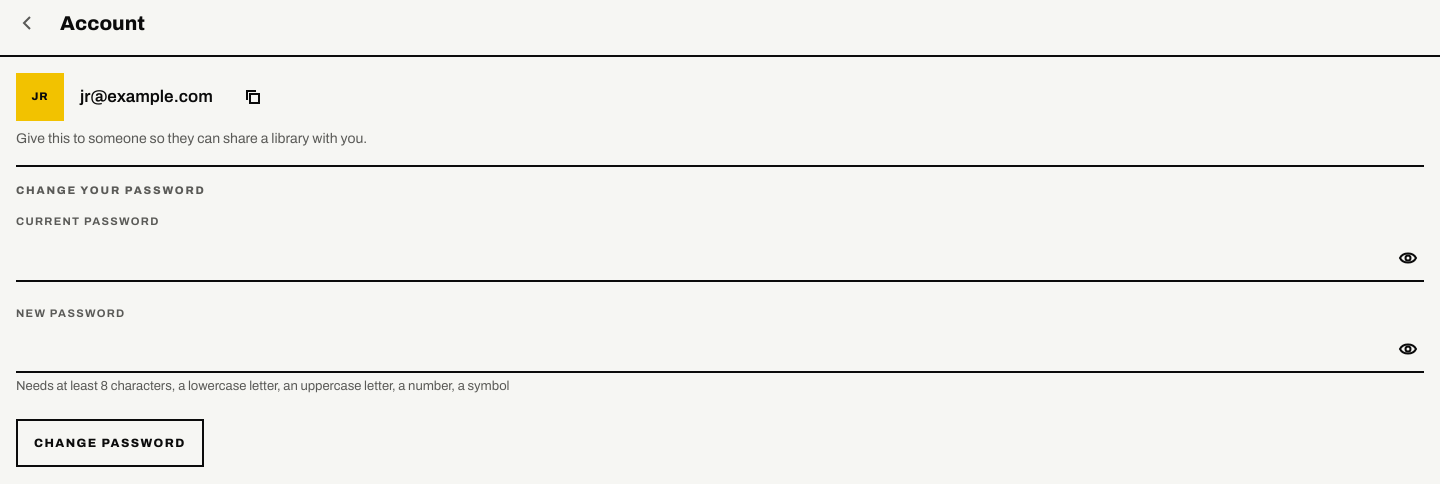
Account › holds the submit until both passwords are usable, and says what is missing
Expected: the button "Change password" is disabled, 16,419 -> 204,467
Type "Old-pass-1!" into the password field labelled "Current password" at (700, 258), box 16,234 -> 1384,282
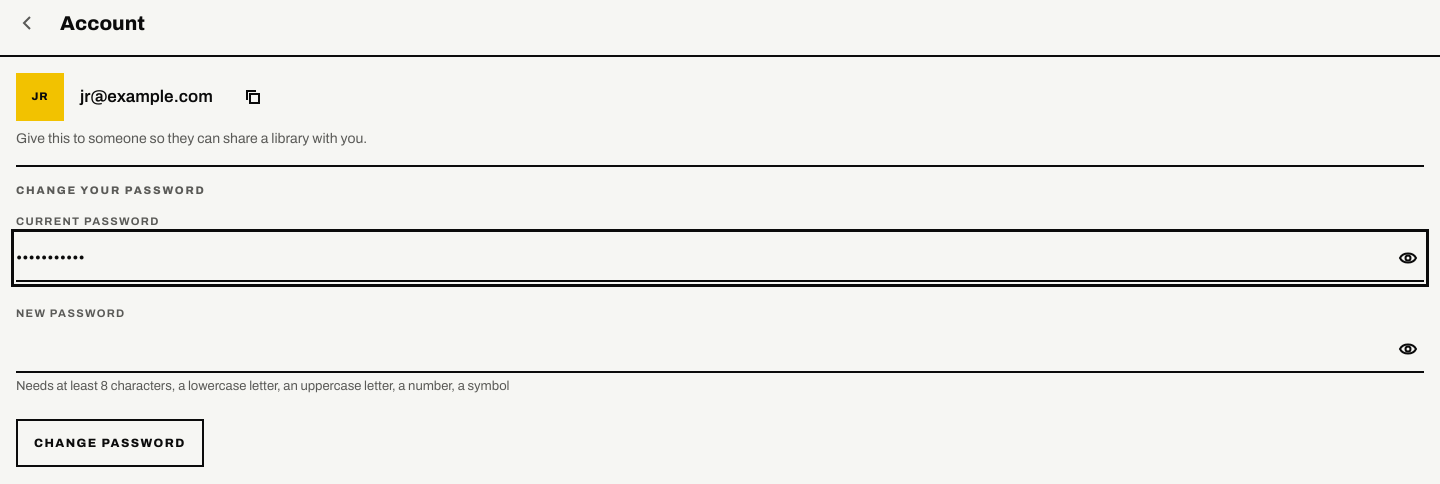
Type "New-pass-1!" into the password field labelled "New password" at (700, 349), box 16,325 -> 1384,373
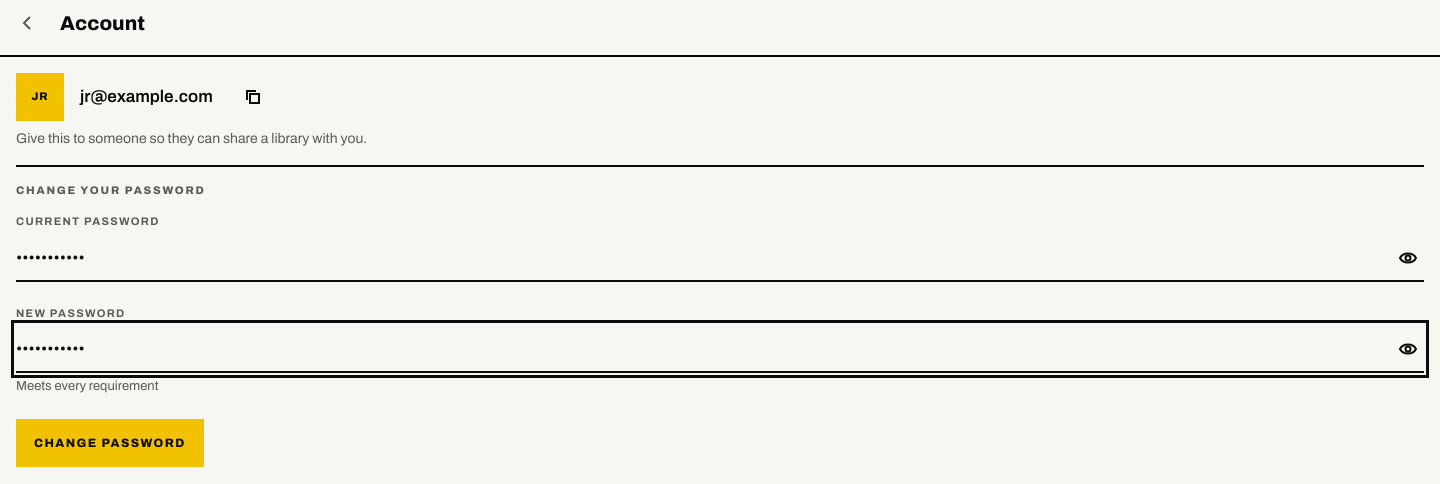
Result: the button "Change password" is enabled at 16,419 -> 204,467
